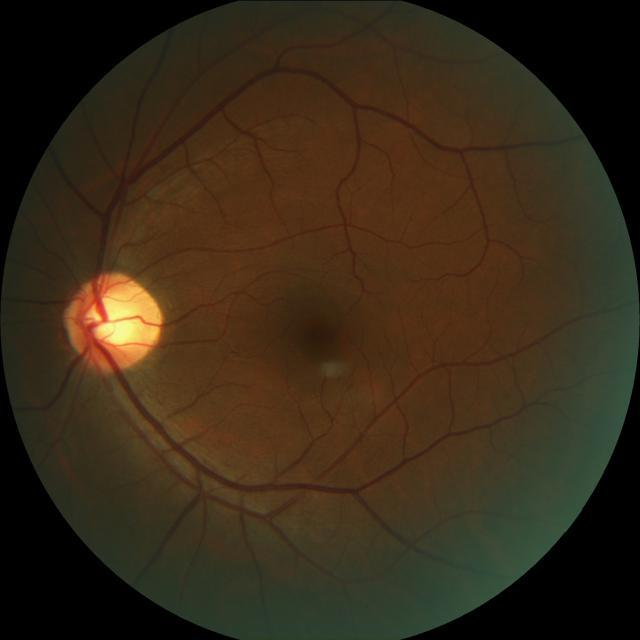OC: (83, 291, 140, 347)
OD: (64, 270, 161, 369)
